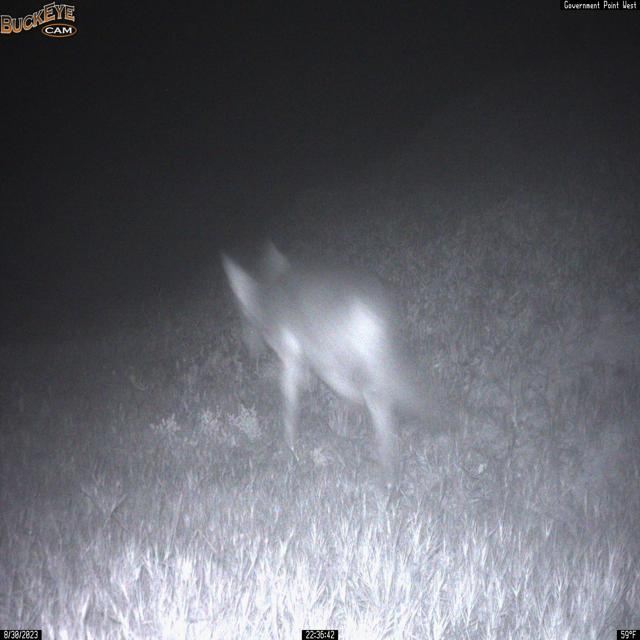coyote: (218, 235, 448, 490)
